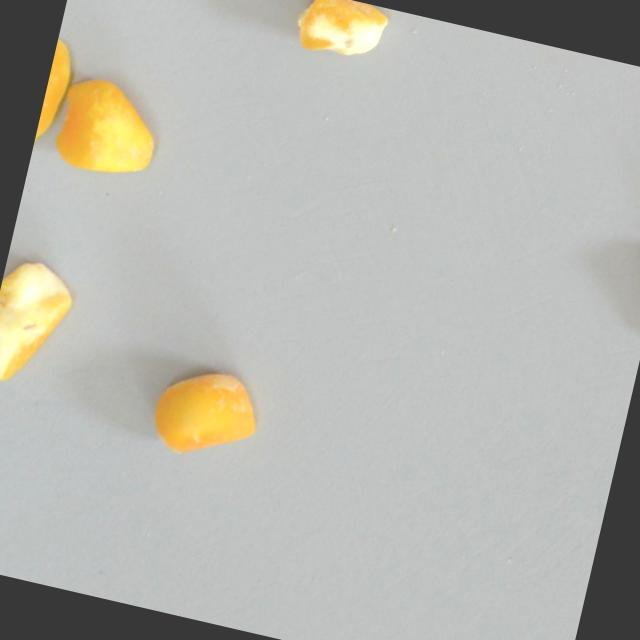estandar: (44, 64, 182, 193)
pelicula: (142, 351, 269, 471), (289, 0, 389, 71), (31, 33, 79, 154)
punto_negro: (0, 250, 79, 397)
